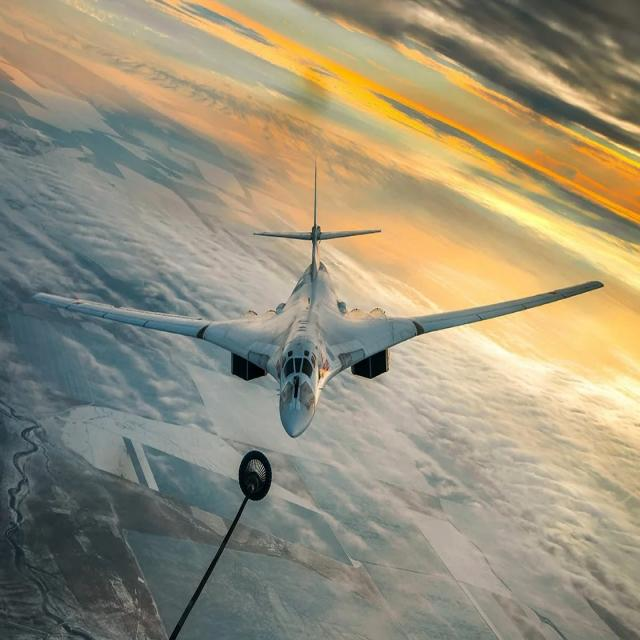Tu160: (0, 126, 621, 473)
